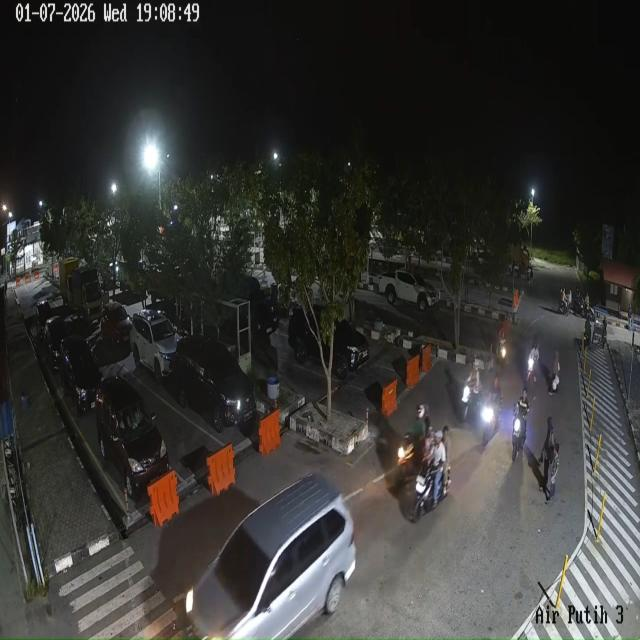Golongan IVA: (185, 473, 356, 639), (96, 376, 169, 500), (172, 336, 256, 432), (288, 306, 369, 380), (59, 334, 103, 416), (130, 309, 178, 383), (44, 316, 68, 370), (101, 301, 131, 344), (36, 300, 53, 339)
Golongan IVB: (378, 270, 439, 311)
Golongan VB: (59, 258, 108, 322)
